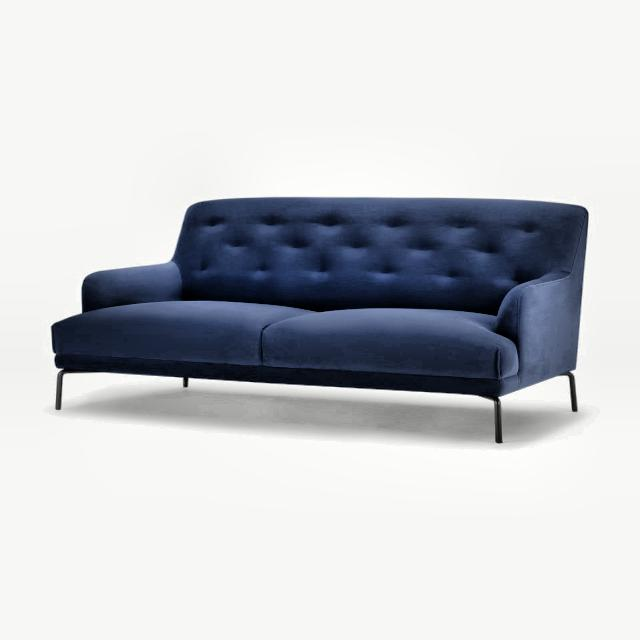sofa: (49, 197, 591, 447)
